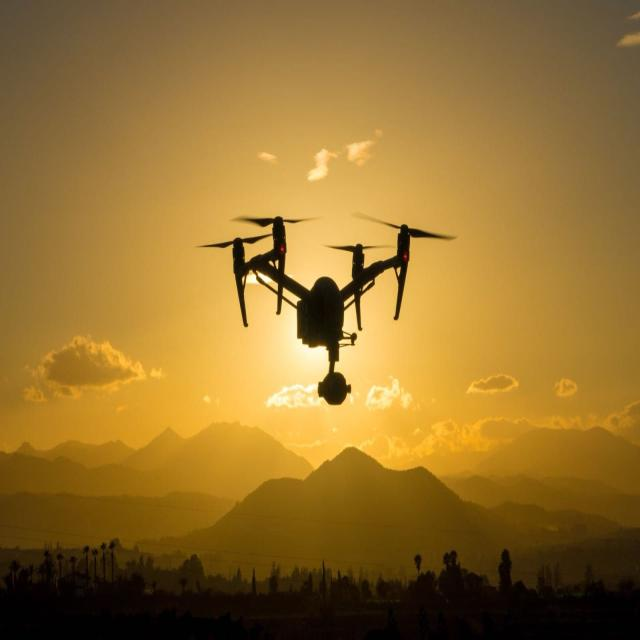drone: (187, 195, 453, 348)
